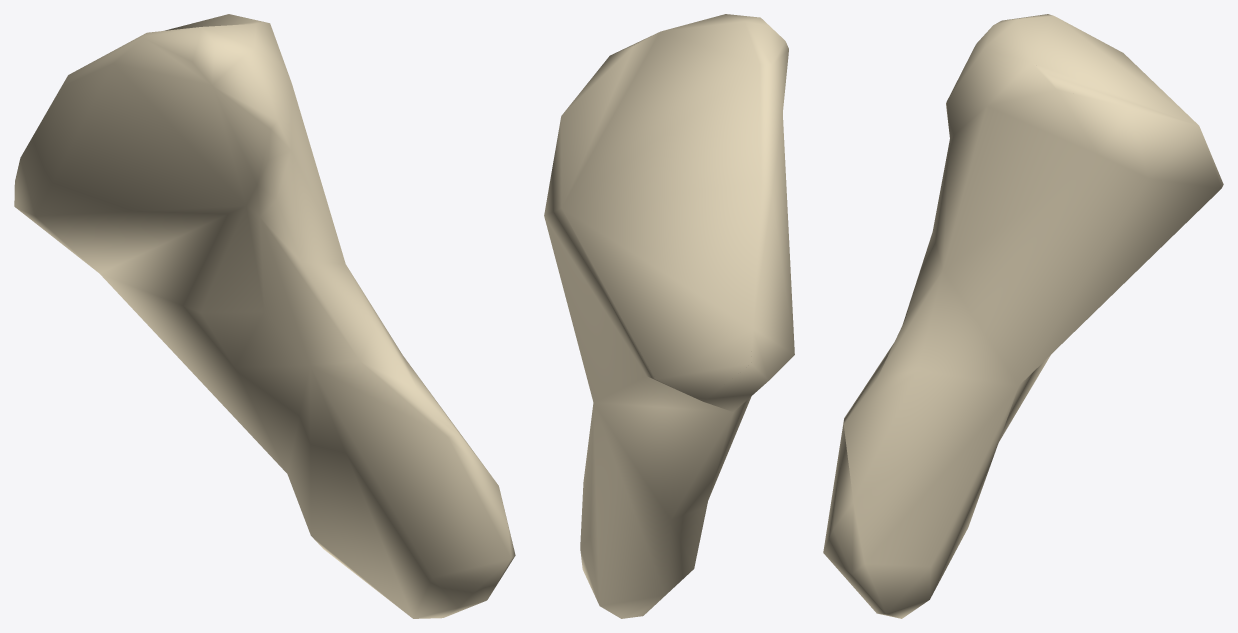
The model's file is esqueleto-distal-phalanx-of-first-finger-of-hand-l.glb.
3 views of the same model, side by side, from view 1: azimuth 30°, elevation 25°; view 2: azimuth 150°, elevation 25°; view 3: azimuth 270°, elevation 25° (orthographic). The views are drawn at different scales.
Parts seen in each view (by area): view 1: Distal phalanx of first finger of hand.l; view 2: Distal phalanx of first finger of hand.l; view 3: Distal phalanx of first finger of hand.l.
Boxes of the visible parts, x1=… form: Distal phalanx of first finger of hand.l: x1=14, y1=14, x2=515, y2=618; Distal phalanx of first finger of hand.l: x1=544, y1=14, x2=794, y2=618; Distal phalanx of first finger of hand.l: x1=823, y1=14, x2=1223, y2=618.
Bounding box in the file's own units: 0.014 × 0.0241 × 0.0168.
